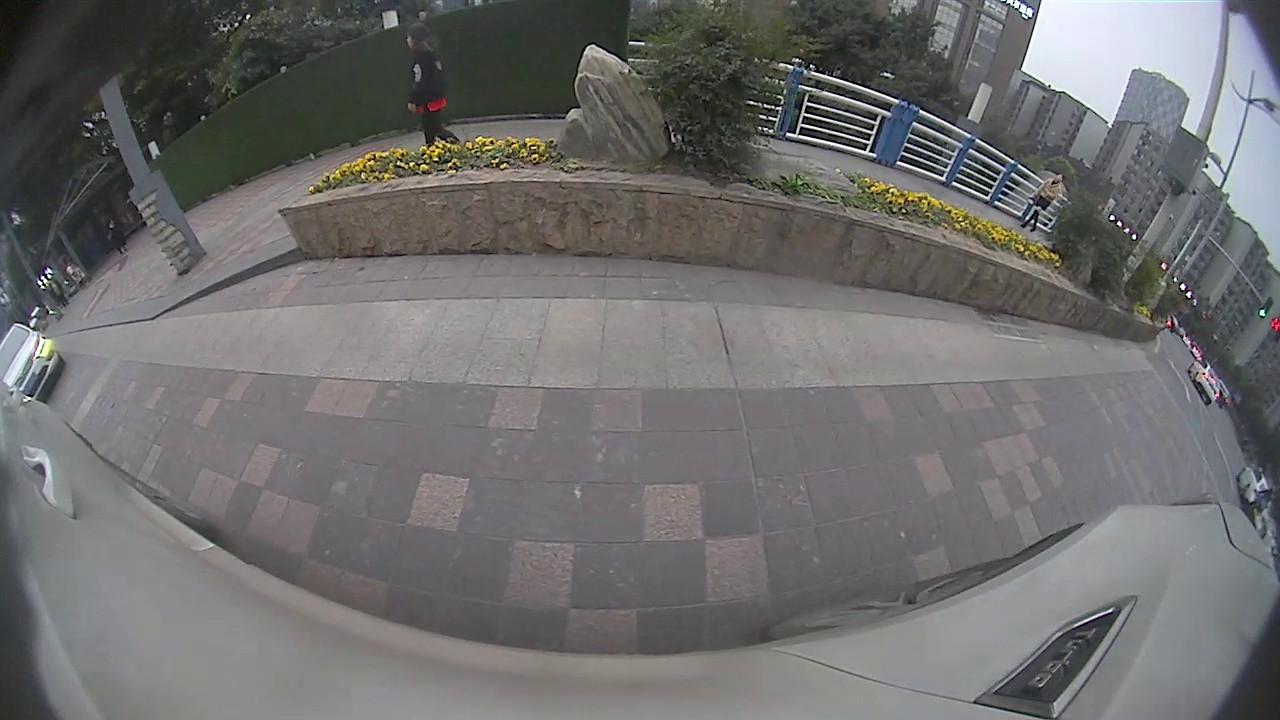car: (1, 318, 67, 403)
person: (406, 20, 443, 146)
